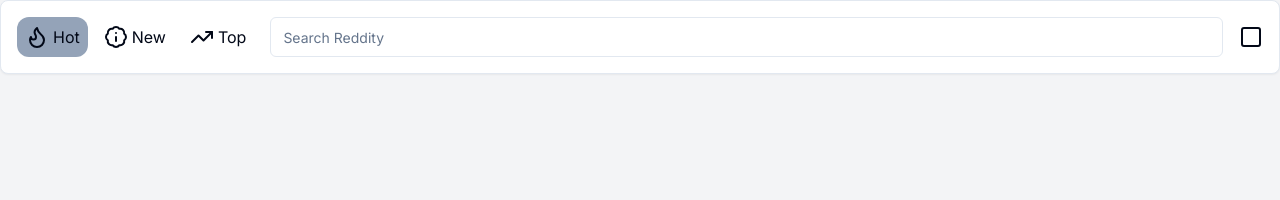
ListingControl › should change card type
Click the button with test id "square-card": click(1251, 37) left=1239, top=17, right=1263, bottom=57
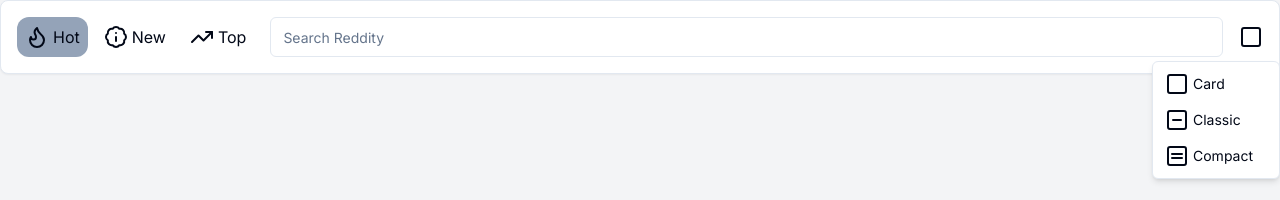
Click the menu item with test id "action-type-compact": click(1209, 156) left=1165, top=144, right=1253, bottom=168
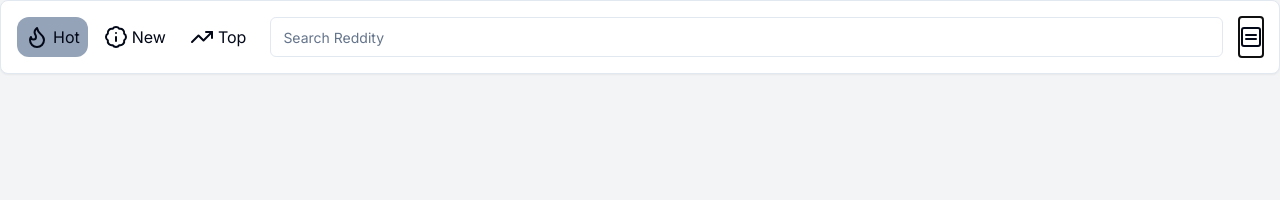
Now the icon with test id "compact-card" is shown, box left=1239, top=25, right=1263, bottom=49
